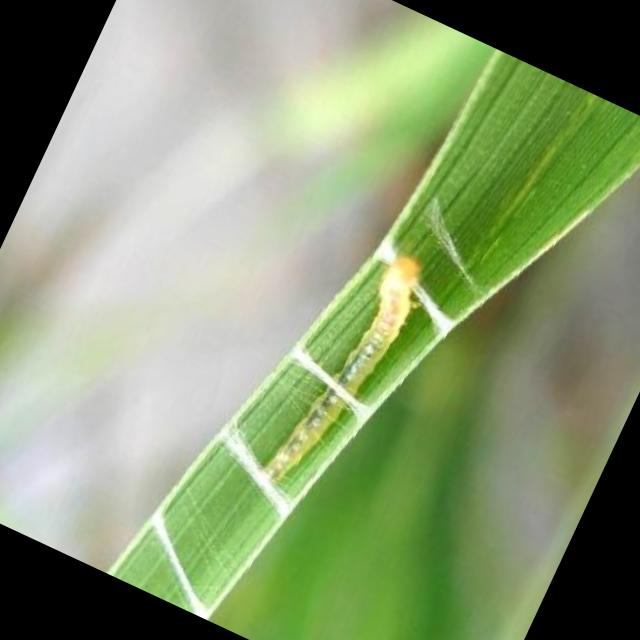leaf-folder: (252, 222, 445, 514)
